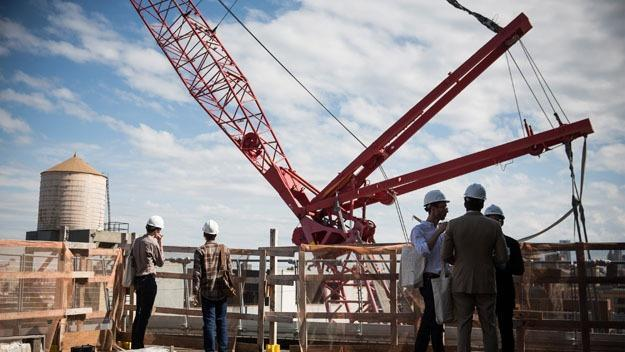helmet: (418, 185, 454, 211), (464, 182, 493, 203), (141, 212, 169, 233), (200, 217, 222, 238)
person: (452, 178, 512, 352), (406, 182, 452, 352), (194, 216, 236, 352), (128, 210, 166, 352)
